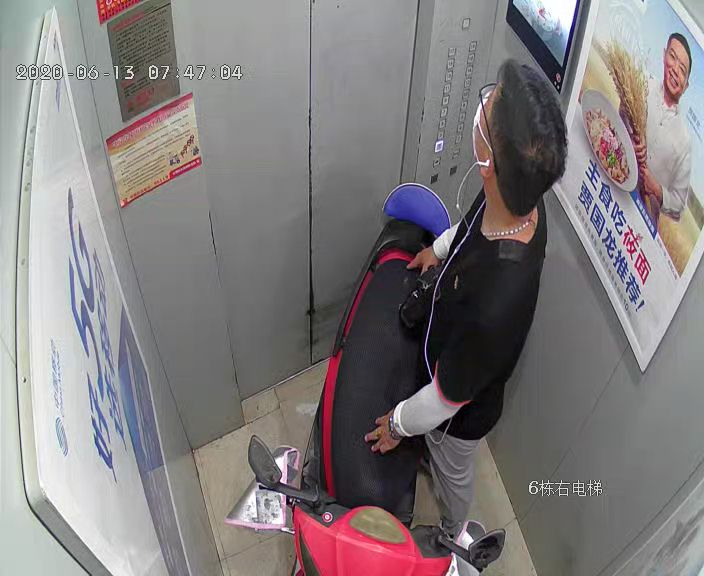Electric-bicycle: (247, 178, 504, 574)
